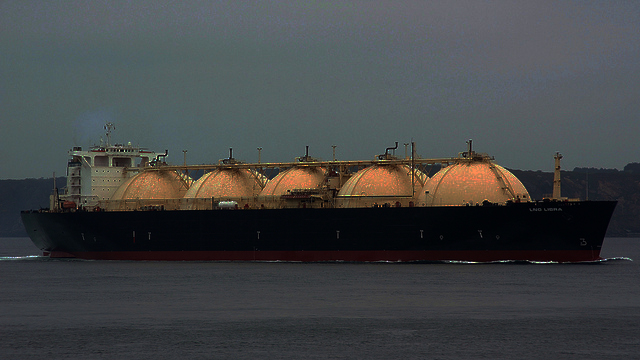LNG_ship: (20, 126, 619, 262)
